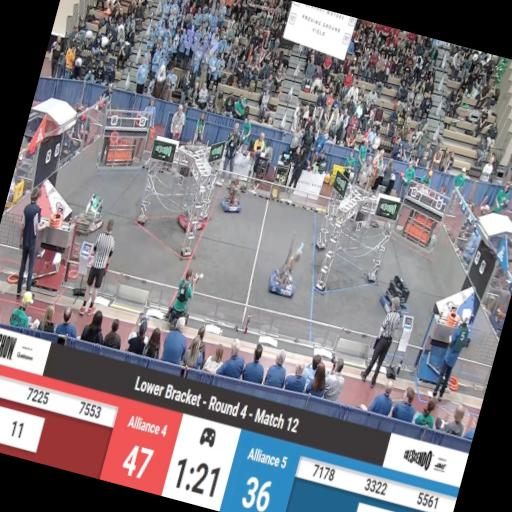robot: (73, 191, 110, 239), (376, 273, 416, 317), (173, 204, 208, 236), (220, 178, 248, 216), (266, 266, 298, 298)
